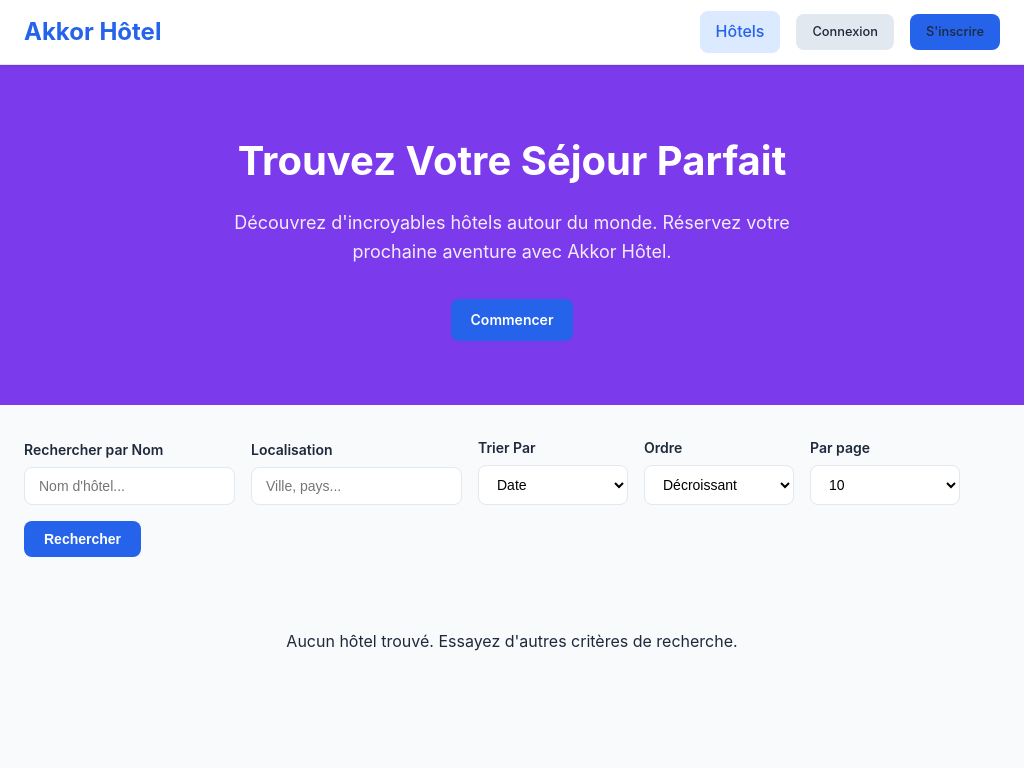
Test: Flux d'inscription et de connexion utilisateur › devrait naviguer vers la page d'inscription
The image size is (1024, 768).
Click the link "S'inscrire": click(955, 33) [910, 14, 1000, 51]
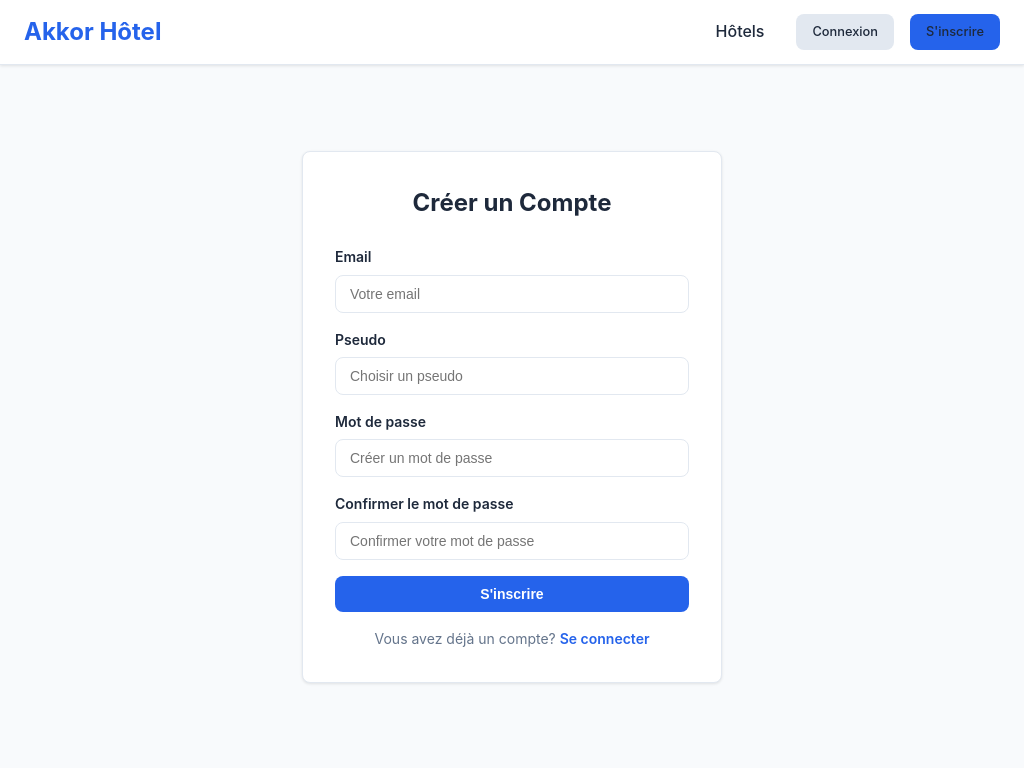
Now the heading "Créer un Compte" is shown, box [412, 188, 611, 217]
